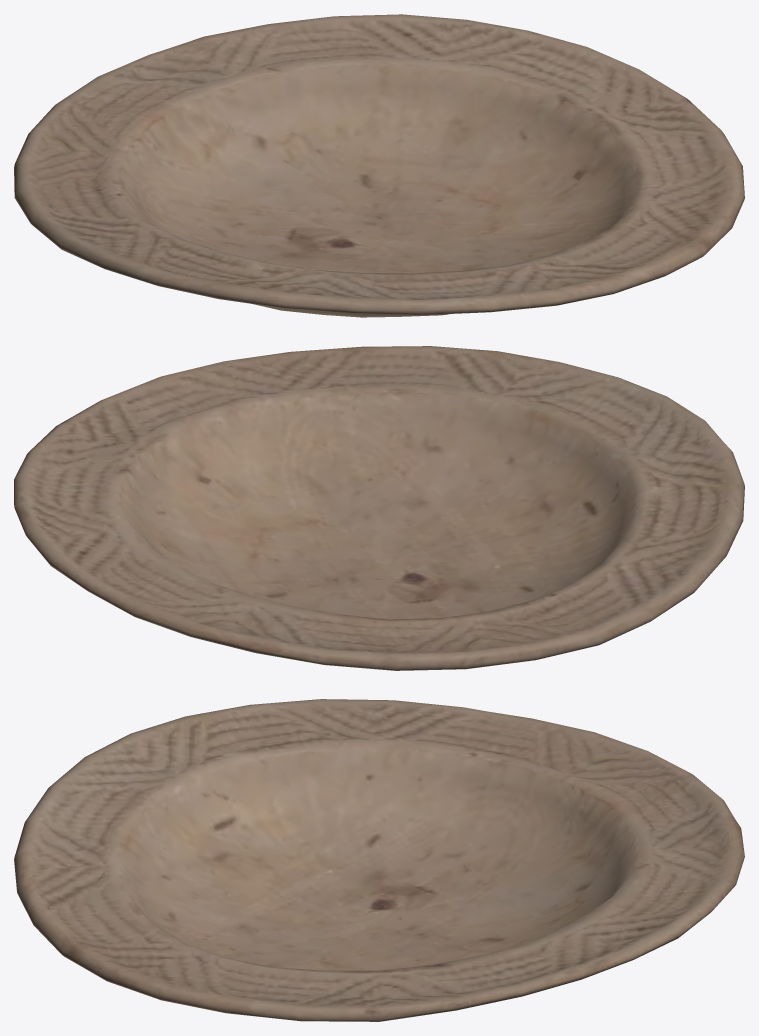
File: carved_wooden_plate.glb
3 views of the same model, one above another, from view 1: azimuth 30°, elevation 25°; view 2: azimuth 150°, elevation 25°; view 3: azimuth 270°, elevation 25° (orthographic). The views are drawn at different scales.
Visible parts, largest first — view 1: carved_wooden_plate; view 2: carved_wooden_plate; view 3: carved_wooden_plate.
Boxes of the visible parts, x1,y1,x2,y2 form: carved_wooden_plate: (14,14,744,317); carved_wooden_plate: (14,346,744,670); carved_wooden_plate: (14,699,744,1021).
Bounding box in the file's own units: 0.2718 × 0.0381 × 0.2688.
Materials: 1 (1 with a texture image).
